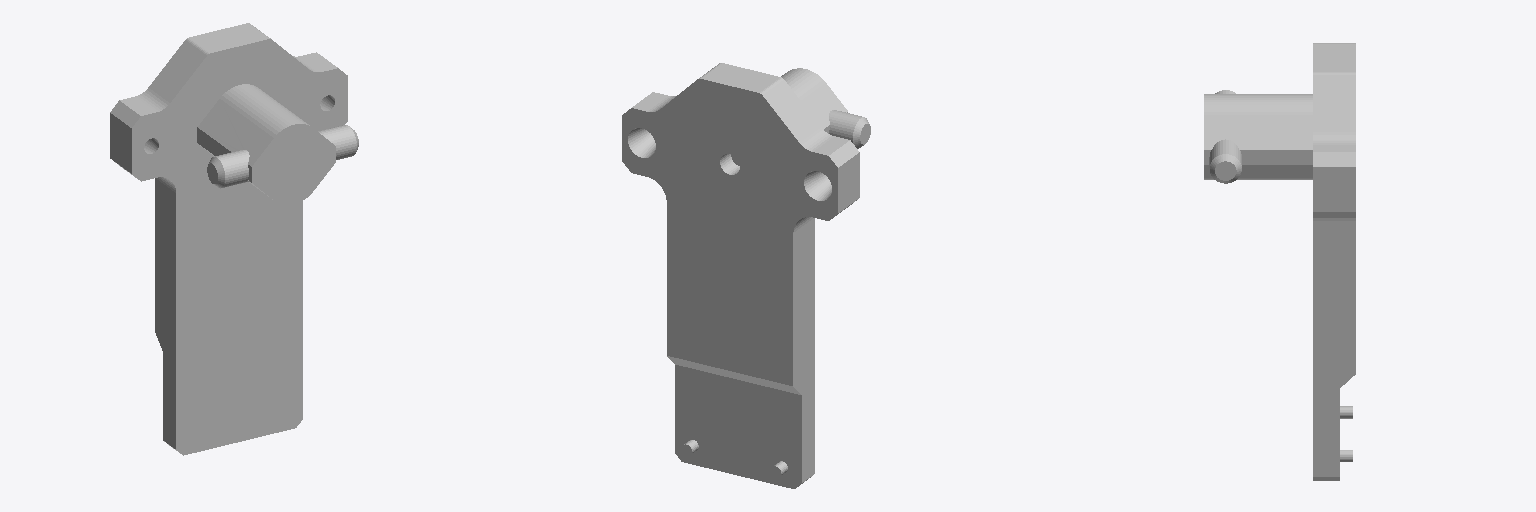
The model's file is tool.obj.
3 views of the same model, side by side, from view 1: azimuth 30°, elevation 25°; view 2: azimuth 150°, elevation 25°; view 3: azimuth 270°, elevation 25° (orthographic).
Bounding box in the file's own units: 0.046 × 0.0805 × 0.028.